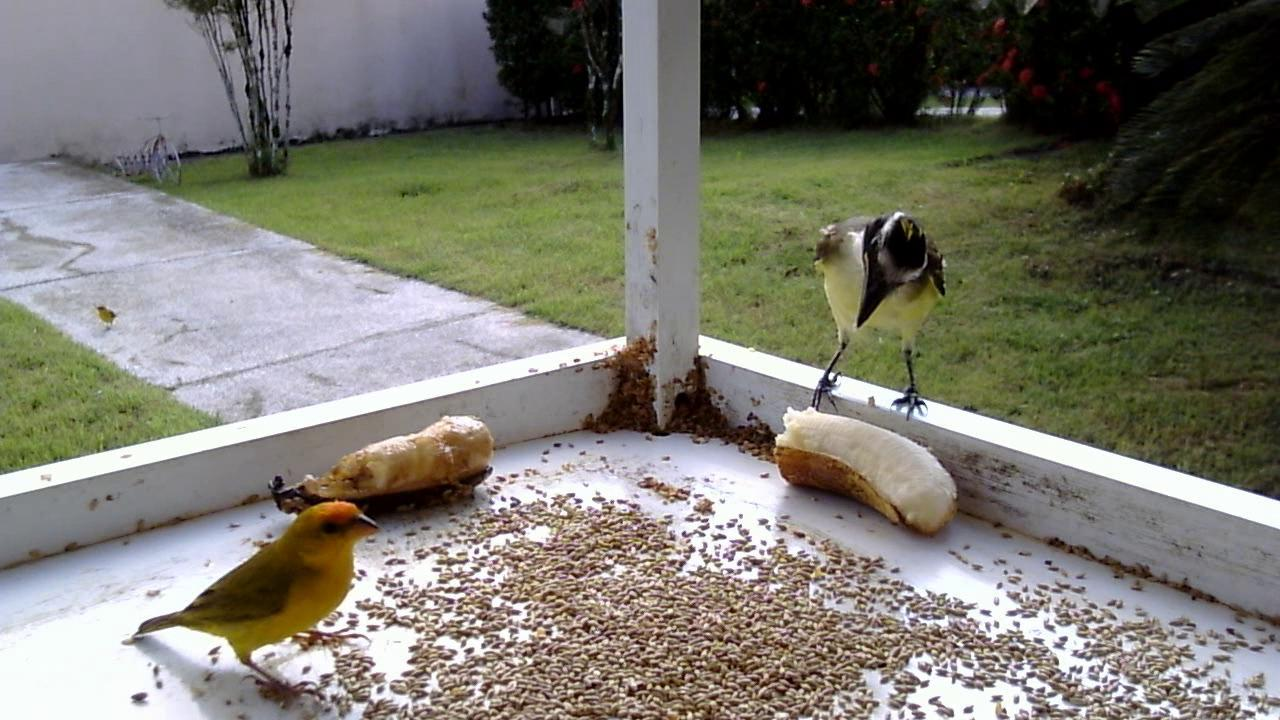bem_te_vi: (799, 204, 956, 426)
canario_do_amazonas: (113, 494, 389, 710)
